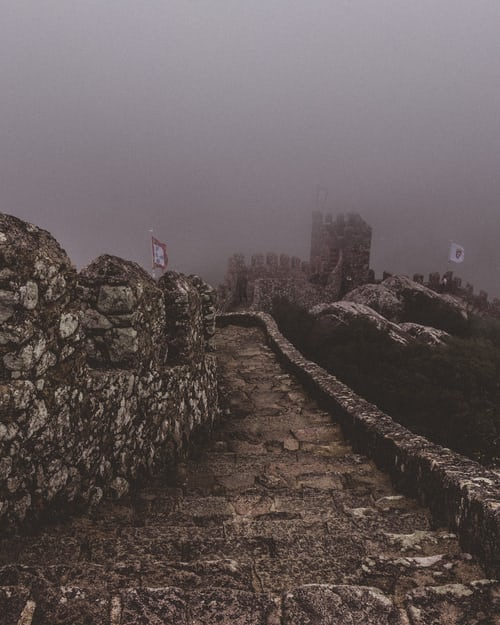Flag: (152, 236, 167, 268), (448, 242, 466, 264), (314, 182, 329, 203)
